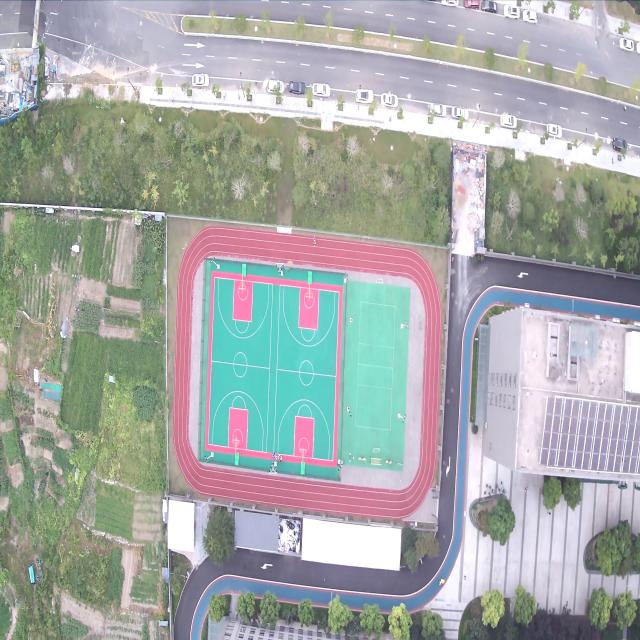UAV: (182, 240, 190, 250)
